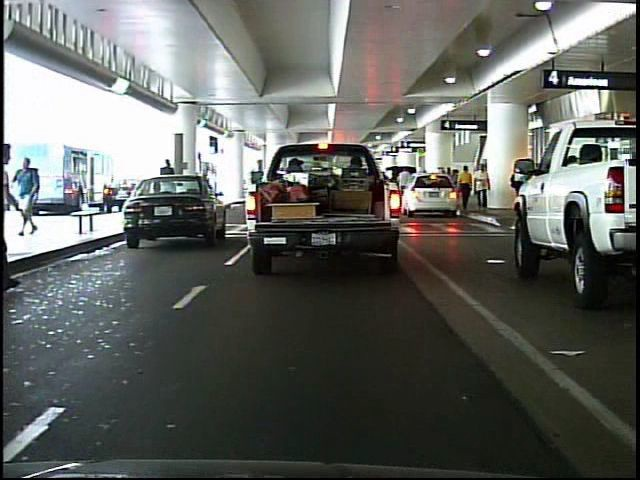person: (13, 154, 47, 238), (156, 154, 181, 219), (452, 160, 473, 220), (476, 156, 495, 214)
